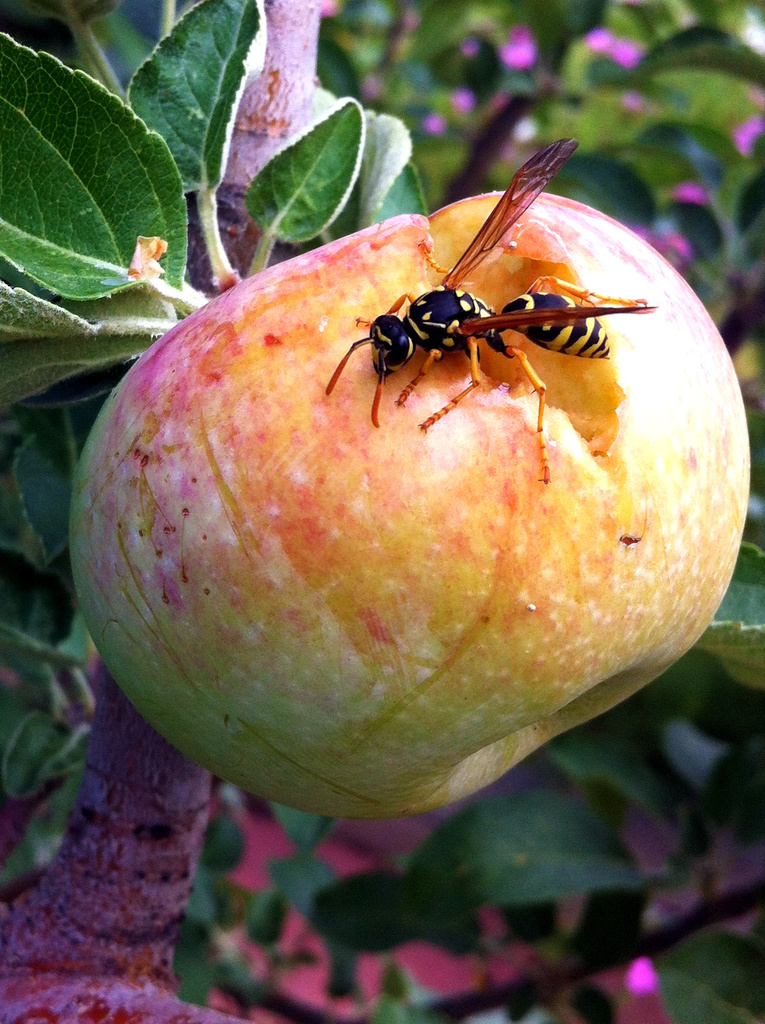Apple: (75, 182, 764, 828)
